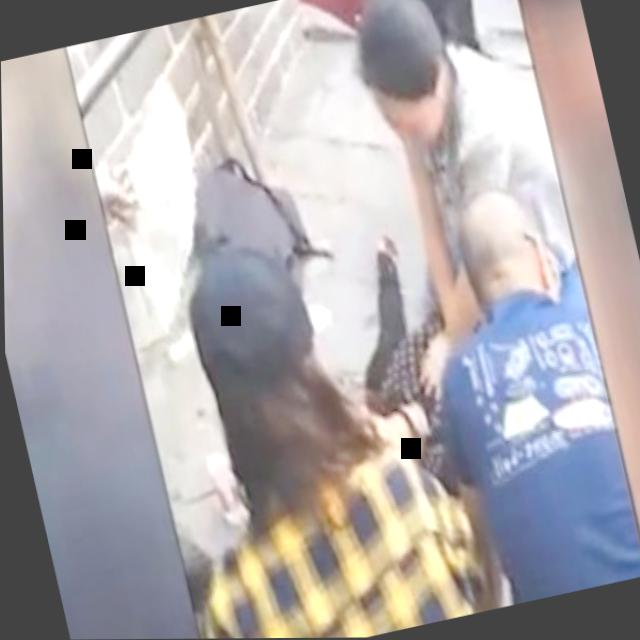Fall-Detected: (302, 220, 503, 489)
